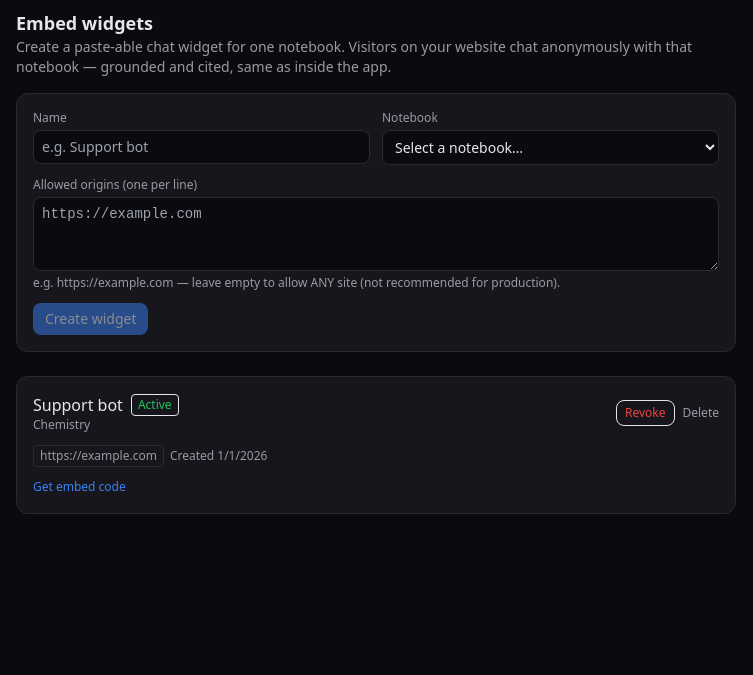
Test case: EmbedWidgetsPage › shows and copies the embed snippet and iframe URL
This screenshot has width=753, height=675.
Expected: the heading "Support bot" is shown, [33, 393, 123, 417]
Click the button "Get embed code".
click(79, 487)  # box [33, 479, 126, 495]
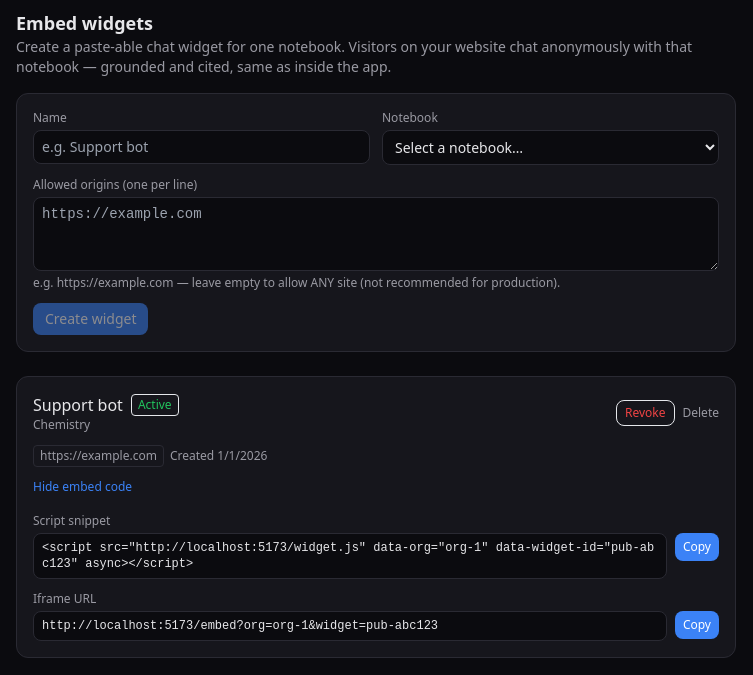
Result: the text "Script snippet" is shown at [33, 512, 110, 529]
Result: the text "Iframe URL" is shown at [33, 590, 96, 607]
Click the 1st button "Copy".
click(697, 547)  # box [675, 533, 719, 561]
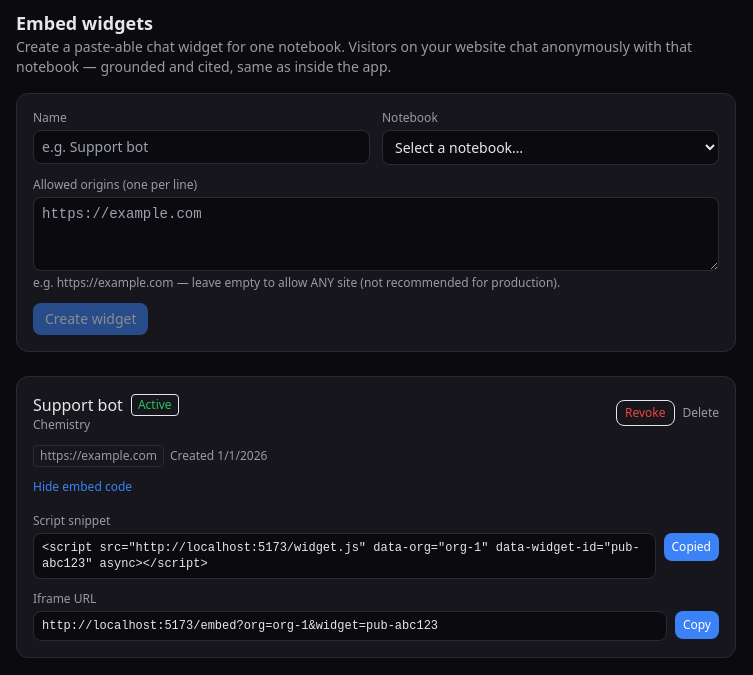
Result: the button "Copied" is shown at [664, 533, 719, 561]
